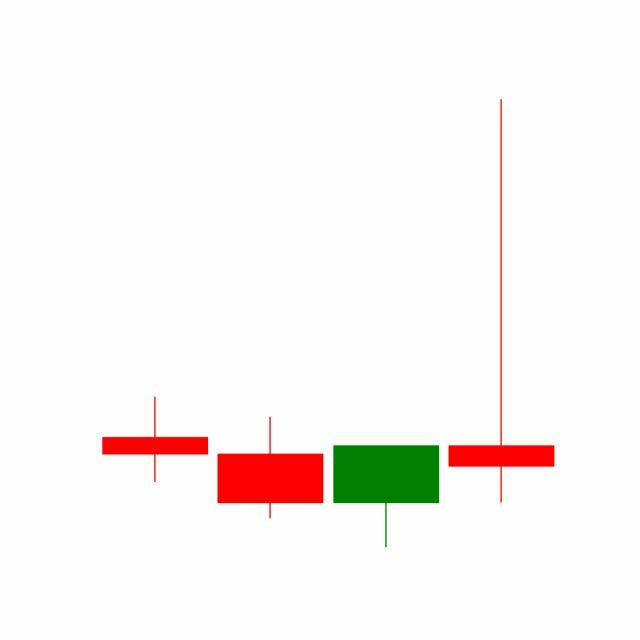Spinning Top: (444, 96, 560, 508)
